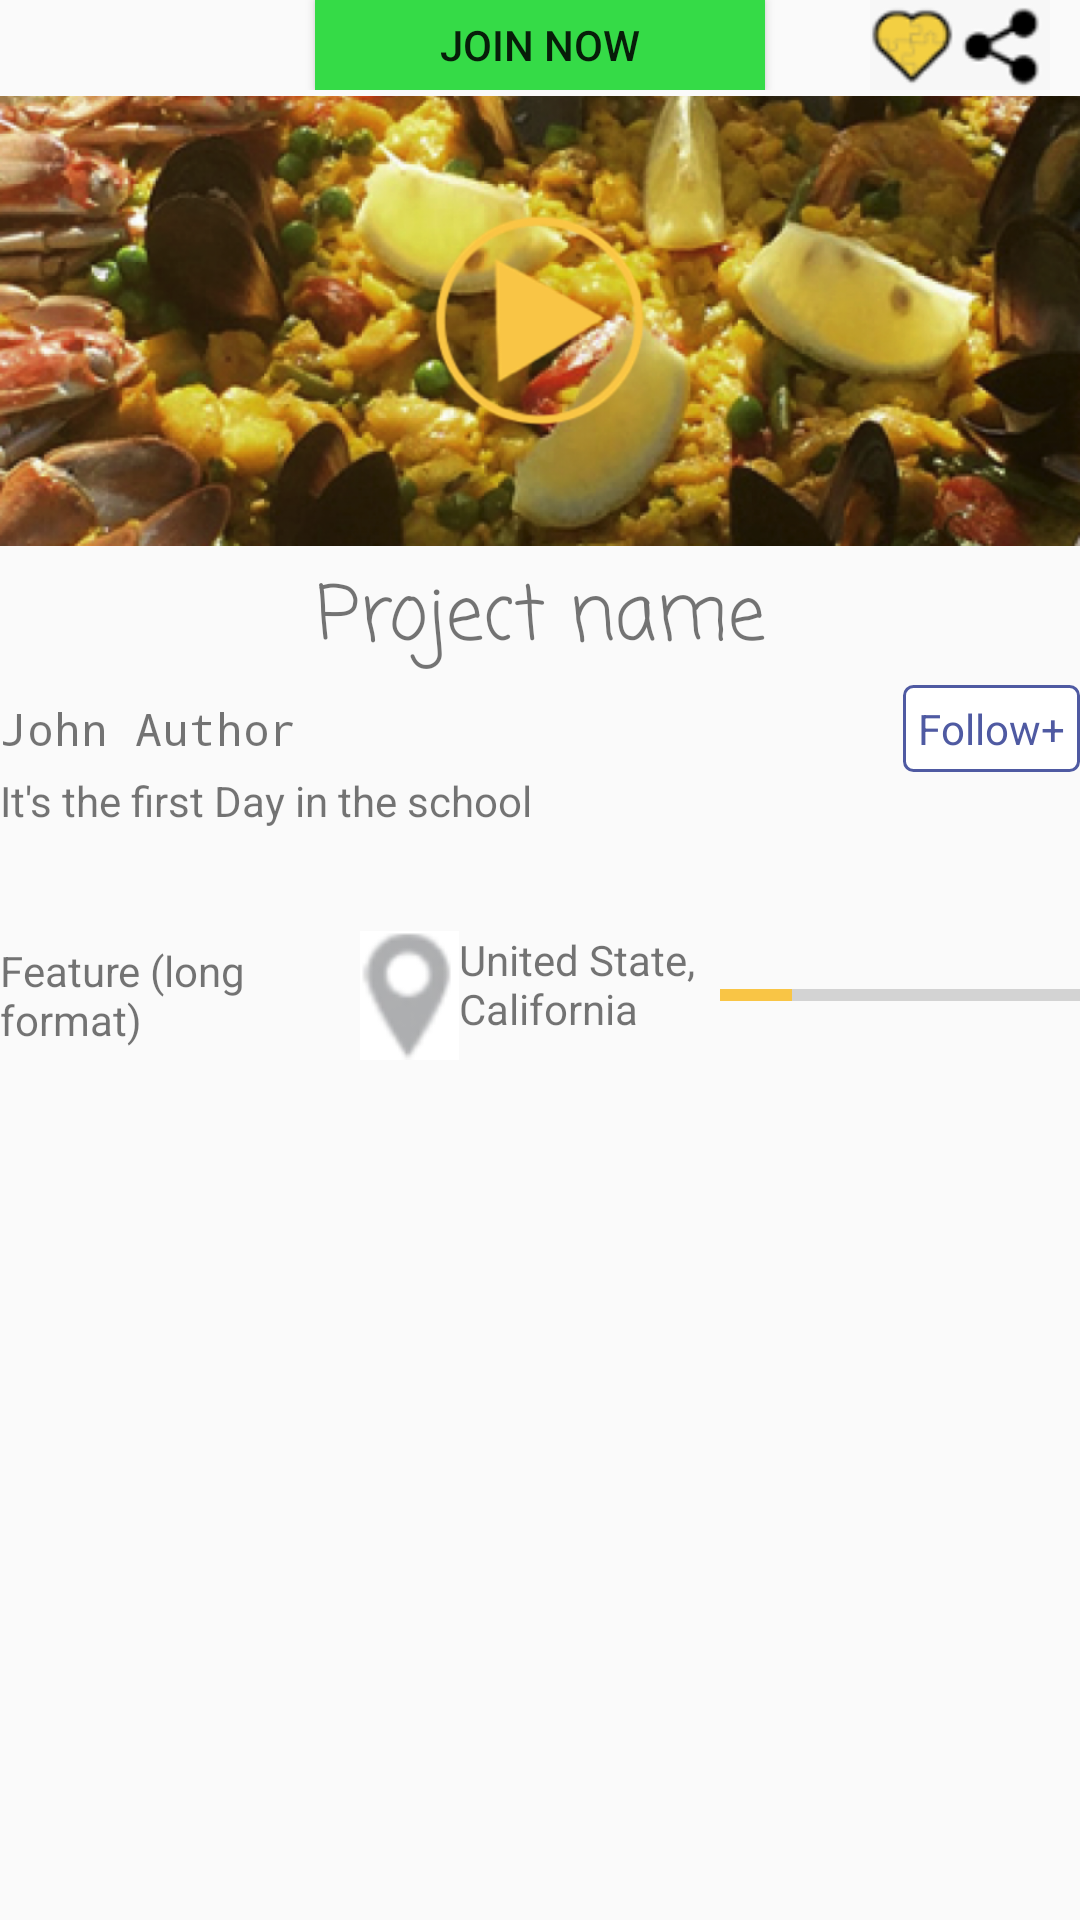

Screen size 1080×1920. Icon name, then its center in pixels as (x=x, y=y):
love: (x=912, y=46)
share: (x=1001, y=46)
